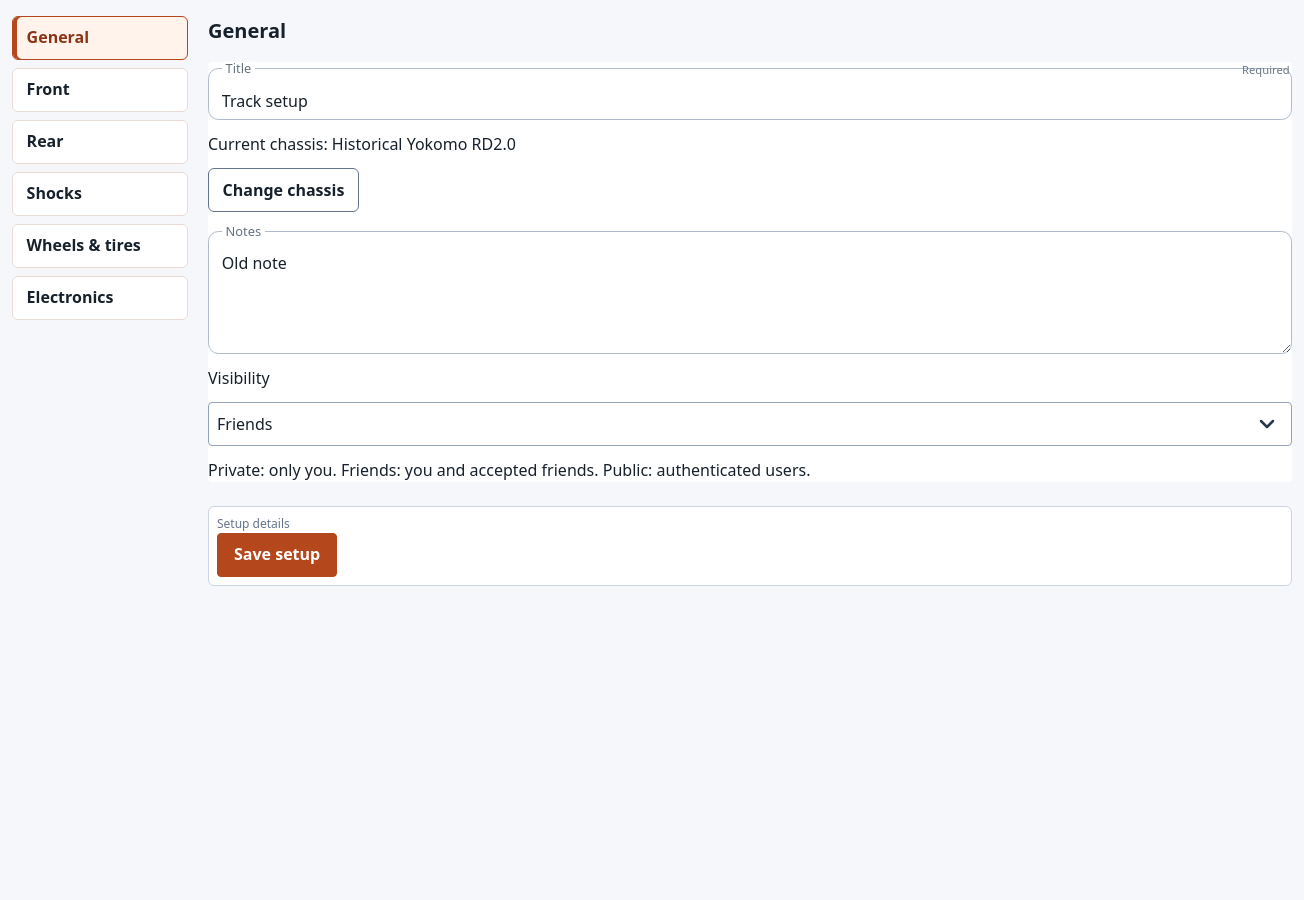
Test: shows long, zero and partial optional values directly in the edit fields
Click the button "Wheels & tires": coordinates (100, 246) [12,224,188,268]
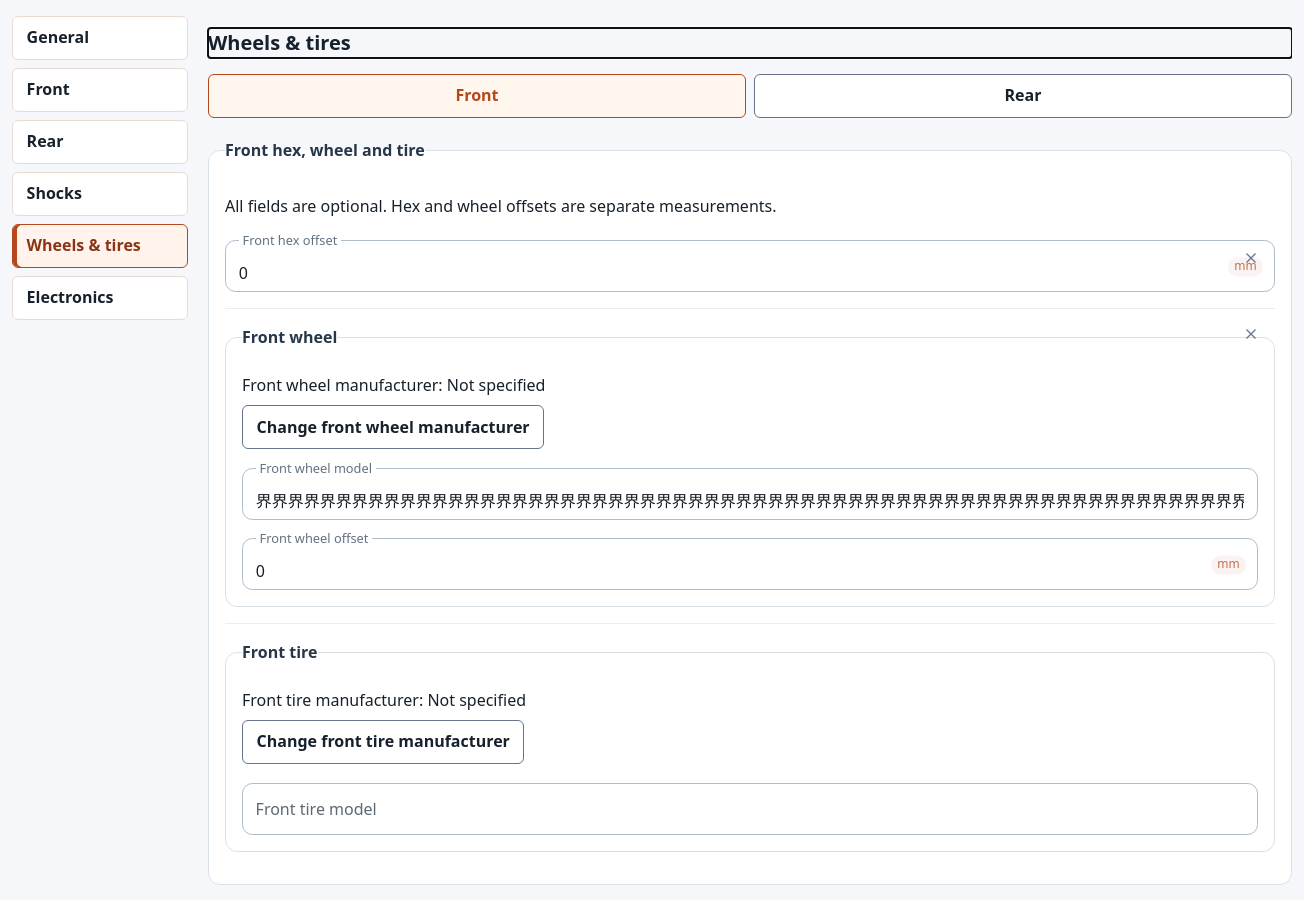
Now the field named "Front wheel offset (mm)" holds "0", box [242,538,1258,590]
